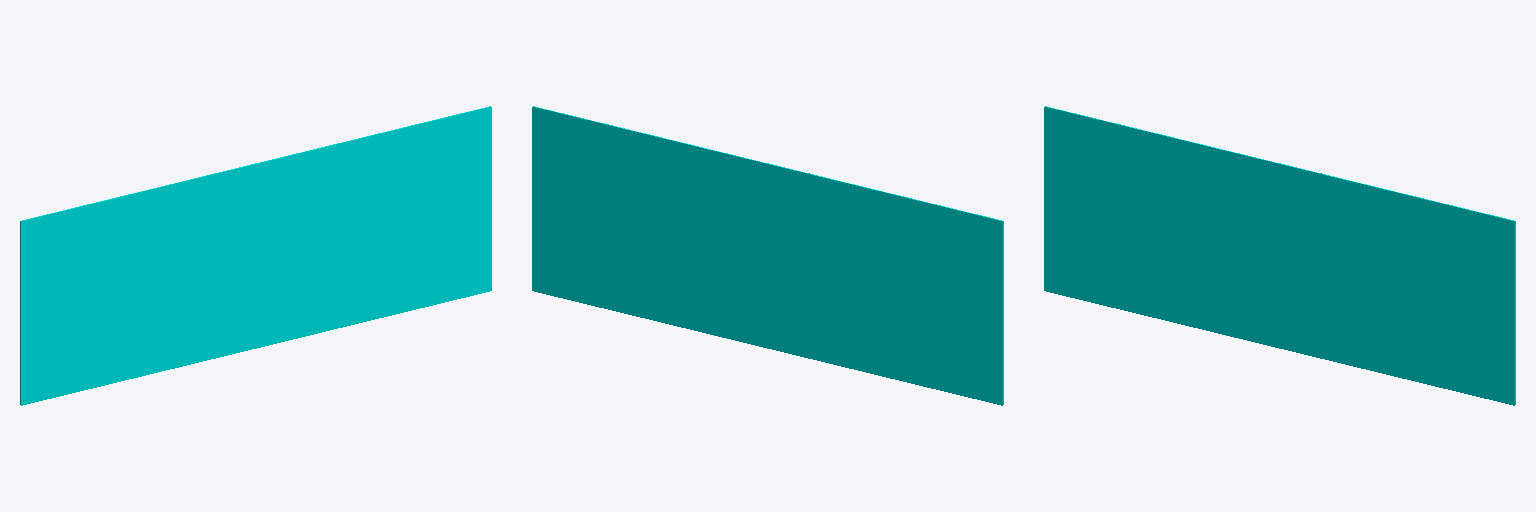
robot.urdf — ball:
<?xml version="0.0" ?>
<robot name="ball">
    <link name="wall">
        <contact>
            <lateral_friction value="1"/>
        </contact>

        <inertial>
            <origin xyz="0 0 0" rpy="0 0 0"/>
            <mass value="0.0"/>
            <inertia ixx="0"  ixy="0"  ixz="0" iyy="0" iyz="0" izz="0" />
        </inertial>

        <visual>
            <origin xyz="0 0 0" rpy="0 0 0" />
            <geometry>
                <box size="4 0.01 1.5" />
            </geometry>
            <material name="Cyan">
                <color rgba="0 1.0 1.0 1.0"/>
            </material>
        </visual>

        <collision>
            <origin xyz="0 0 0" rpy="0 0 0"/>
            <geometry>
                <box size="4 0.01 1.5" />
            </geometry>
        </collision>
    </link>
</robot>

--- What the picture shows (computed from the rendered views, not written in the file) ---
Views: 3 orthographic renders of the robot side by side, from view 1: azimuth 30°, elevation 25°; view 2: azimuth 150°, elevation 25°; view 3: azimuth 330°, elevation 25°.
Model ball with 1 links and 0 joints (none), rooted at wall, posed all joints at 0.
Visible links, largest first — view 1: wall; view 2: wall; view 3: wall.
Boxes of the visible links, bbox=[...] form: wall: bbox=[20, 106, 491, 405]; wall: bbox=[532, 106, 1003, 405]; wall: bbox=[1044, 106, 1515, 405].
Bounding box of the posed robot: 4 × 0.01 × 1.5 m (x, y, z).
Geometry: primitives only (box / cylinder / sphere), no mesh files.